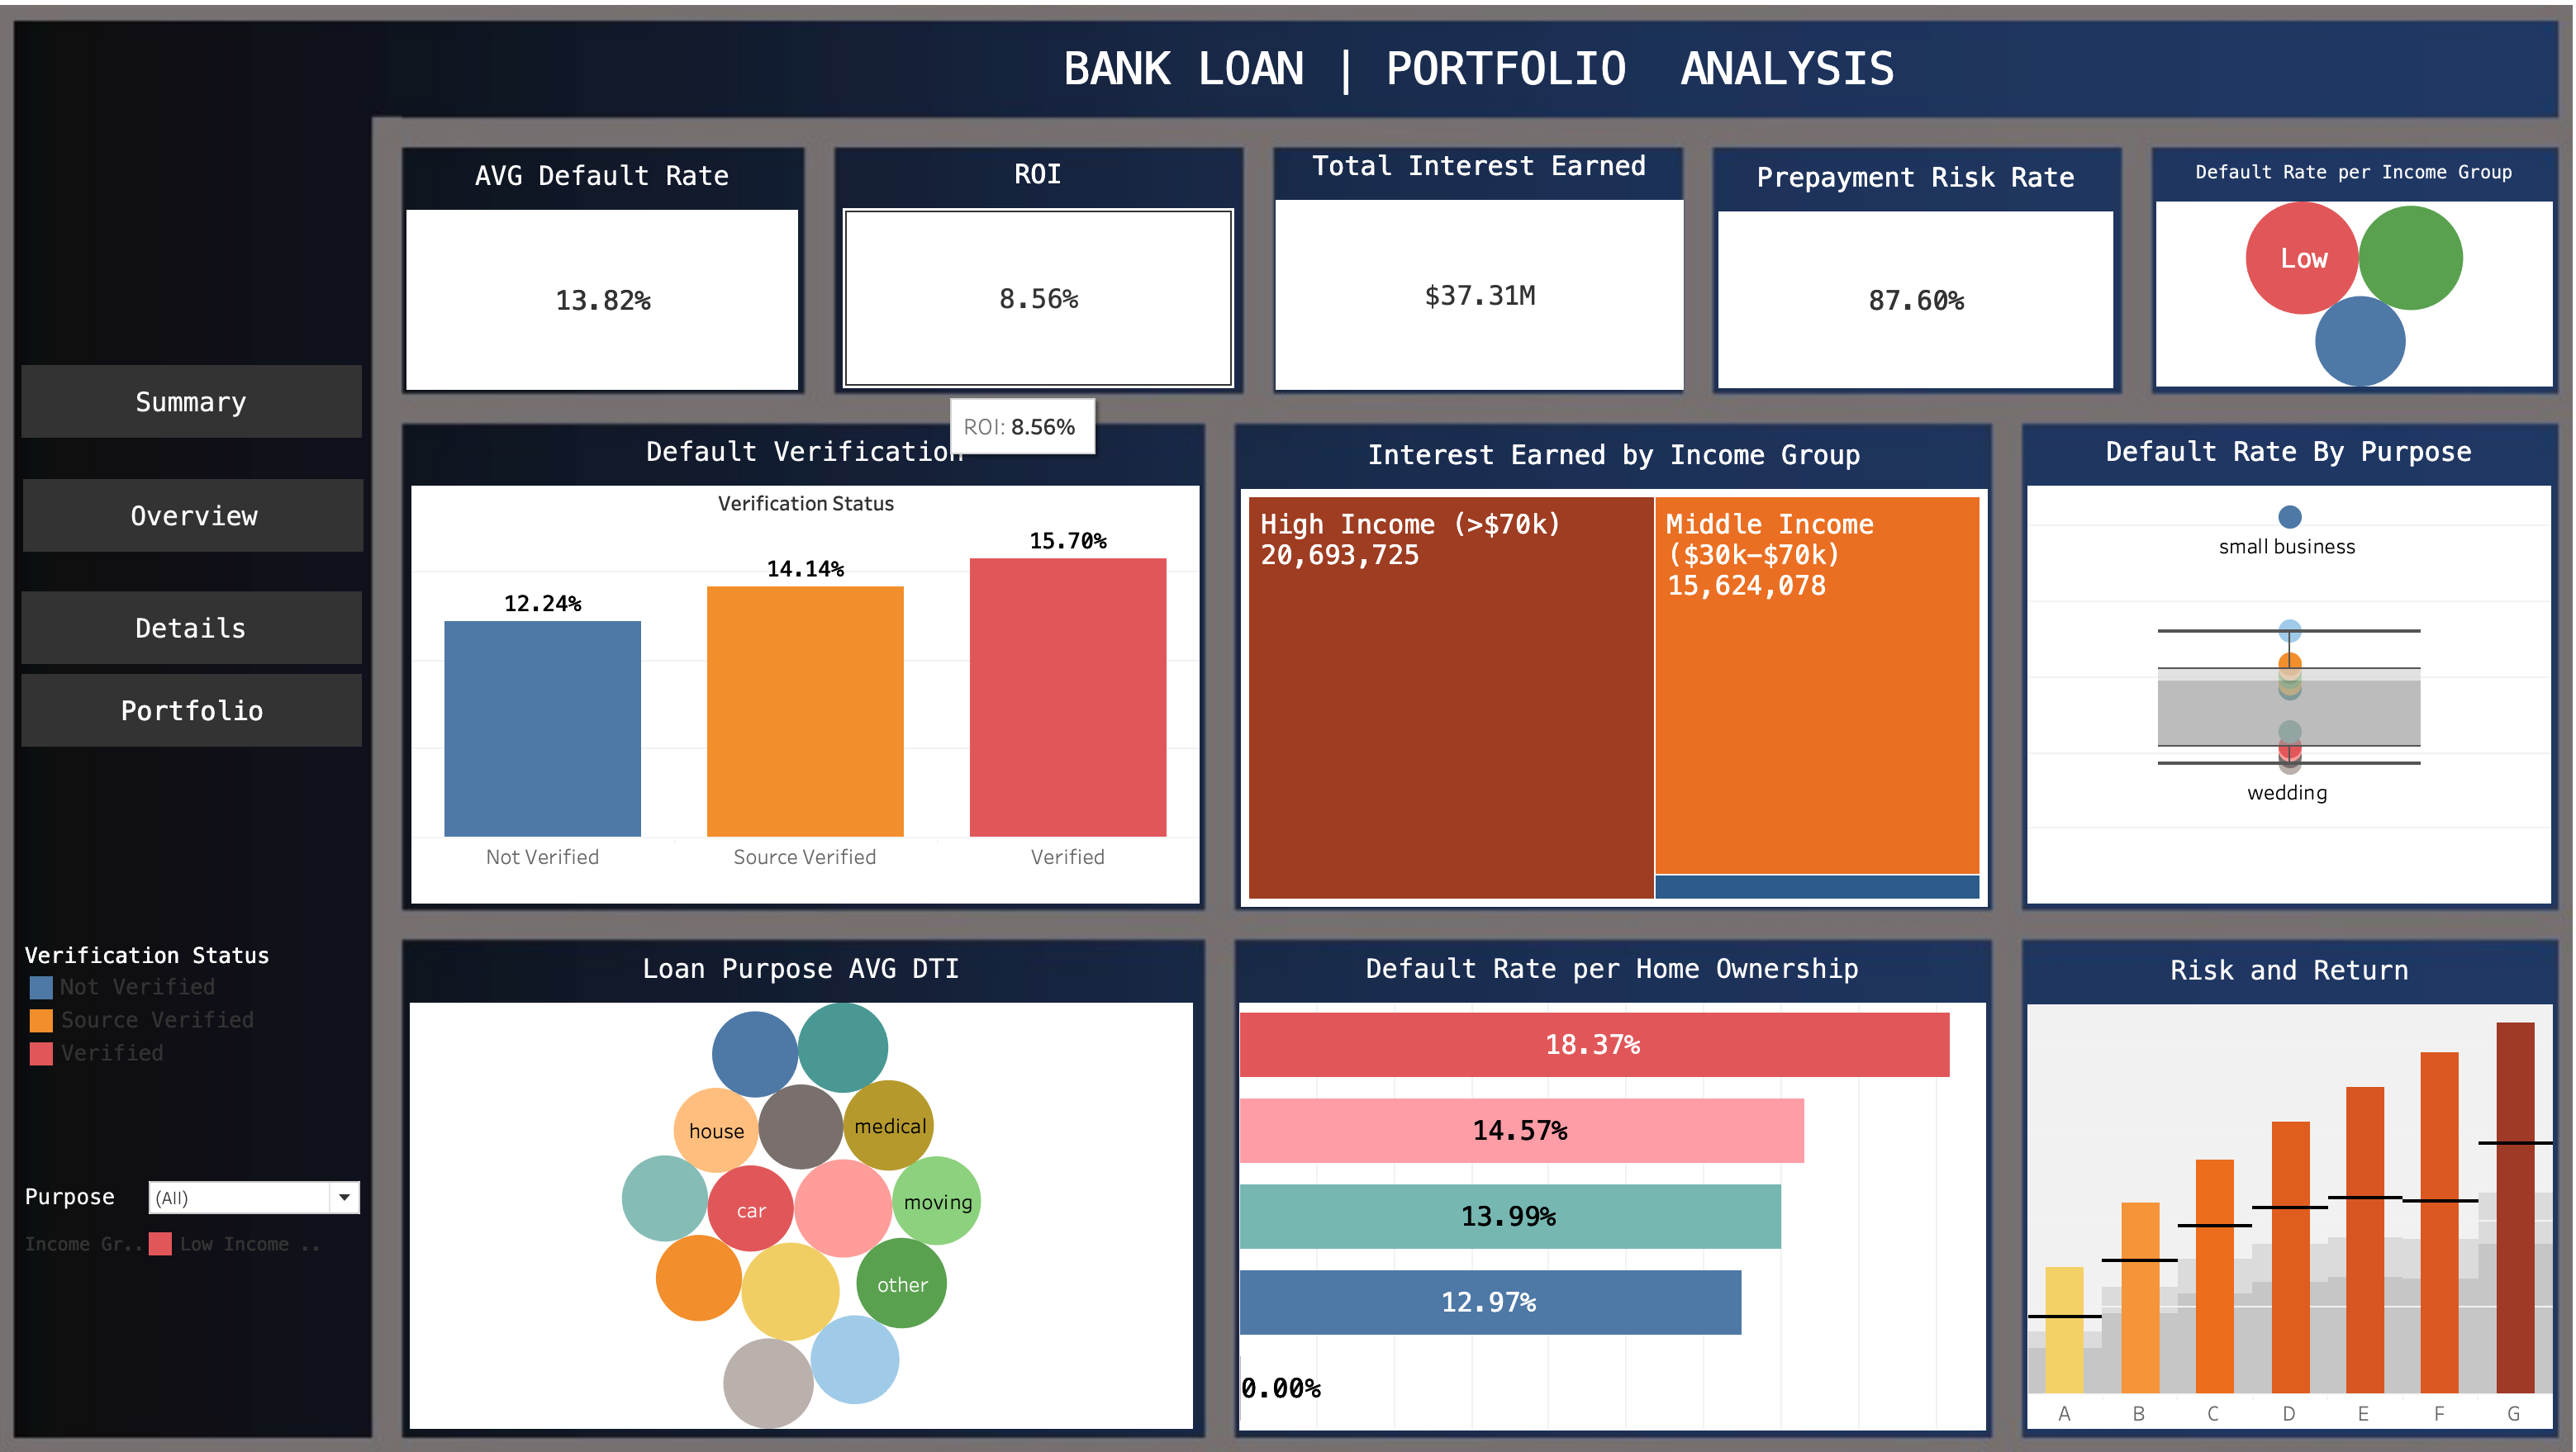

Layout of this report page (visuals, bound fields, positions):
{"tool":"tableau","page":{"name":"BANK LOAN PORTFOLIO ASSESSMENT","canvas":[1600,900],"ordinal":2},"visuals":[{"type":"image","param":"Image/Tableau Background 2.jpg","box":[8,8,1584,884]},{"type":"text","box":[565,24,703,54]},{"type":"worksheet","title":"Total Interest Earned","mark":"Automatic","box":[793,96,247,149]},{"type":"worksheet","title":"ROI","mark":"Automatic","box":[527,97,245,151]},{"type":"worksheet","title":"AVG Default Rate","mark":"Automatic","box":[263,98,245,151]},{"type":"worksheet","title":"Prepayment Risk Rate","mark":"Automatic","box":[1057,99,247,149]},{"type":"worksheet","title":"Default Rate per Income Group","mark":"Circle","box":[1322,99,248,148]},{"type":"dashboard-object","box":[30,226,214,52]},{"type":"worksheet","title":"Default Verification","mark":"Automatic","rows":["Calculation_68046638635319302"],"cols":["verification_status"],"box":[266,265,485,295]},{"type":"worksheet","title":"Default Rate By Purpose","mark":"Circle","rows":["Calculation_68046638635319302"],"box":[1244,265,325,295]},{"type":"worksheet","title":"Interest Earned by Income Group","mark":"Automatic","box":[768,267,460,295]},{"type":"dashboard-object","box":[31,295,214,52]},{"type":"dashboard-object","box":[30,363,214,52]},{"type":"dashboard-object","box":[34,417,206,44]},{"type":"legend","title":"Default Verification","param":"[federated.12kh4dk13x4zyx0zkb6am0r0stkr].[none:verification_status:nk]","box":[32,576,214,86]},{"type":"worksheet","title":"Loan Purpose AVG DTI","mark":"Circle","box":[265,578,482,300]},{"type":"worksheet","title":"Default Rate per Home Ownership","mark":"Automatic","rows":["home_ownership"],"cols":["Calculation_68046638635319302"],"box":[767,578,460,301]},{"type":"worksheet","title":"Risk and Return","mark":"Automatic","rows":["int_rate"],"cols":["grade"],"box":[1244,579,326,299]},{"type":"filter","title":"Loan Purpose AVG DTI","param":"[federated.12kh4dk13x4zyx0zkb6am0r0stkr].[none:purpose:nk]","box":[32,720,214,52]}]}

Visuals, with their boxes in screenshot pixels (x1, y1, x2, y2), scaled from the page's 1600x900 canvas onto the 2576x1452 screenshot:
image: bbox(13, 13, 2563, 1439)
text: bbox(910, 39, 2041, 126)
"Total Interest Earned" worksheet: bbox(1276, 155, 1675, 396)
"ROI" worksheet: bbox(848, 156, 1243, 400)
"AVG Default Rate" worksheet: bbox(424, 158, 818, 401)
"Prepayment Risk Rate" worksheet: bbox(1702, 159, 2099, 400)
"Default Rate per Income Group" worksheet (Circle marks): bbox(2128, 159, 2528, 398)
dashboard-object: bbox(48, 364, 392, 448)
"Default Verification" worksheet: bbox(428, 428, 1210, 904)
"Default Rate By Purpose" worksheet (Circle marks): bbox(2003, 428, 2526, 904)
"Interest Earned by Income Group" worksheet: bbox(1237, 431, 1977, 907)
dashboard-object: bbox(50, 476, 394, 560)
dashboard-object: bbox(48, 586, 392, 670)
dashboard-object: bbox(55, 673, 387, 743)
"Default Verification" legend: bbox(51, 929, 396, 1068)
"Loan Purpose AVG DTI" worksheet (Circle marks): bbox(426, 932, 1203, 1416)
"Default Rate per Home Ownership" worksheet: bbox(1235, 932, 1975, 1418)
"Risk and Return" worksheet: bbox(2003, 934, 2528, 1416)
"Loan Purpose AVG DTI" filter: bbox(51, 1161, 396, 1246)
